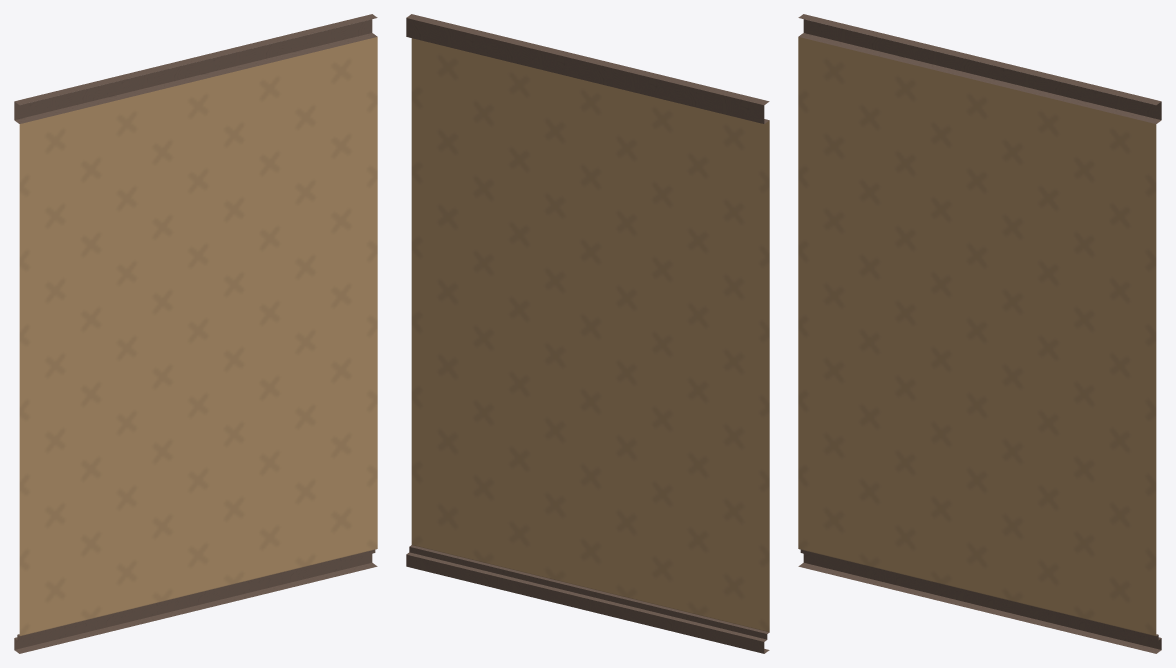
File: Wall Room (1).fbx
3 renders of one model, left to right at view 1: azimuth 30°, elevation 25°; view 2: azimuth 150°, elevation 25°; view 3: azimuth 330°, elevation 25°, orthographic.
Parts seen in each view (by area): view 1: Wall Room.002; view 2: Wall Room.002; view 3: Wall Room.002.
Boxes of the visible parts, x1=… form: Wall Room.002: x1=14, y1=14, x2=377, y2=653; Wall Room.002: x1=406, y1=14, x2=769, y2=653; Wall Room.002: x1=798, y1=14, x2=1161, y2=653.
Size of the model in its own units: 4 by 5.85 by 0.1039.
